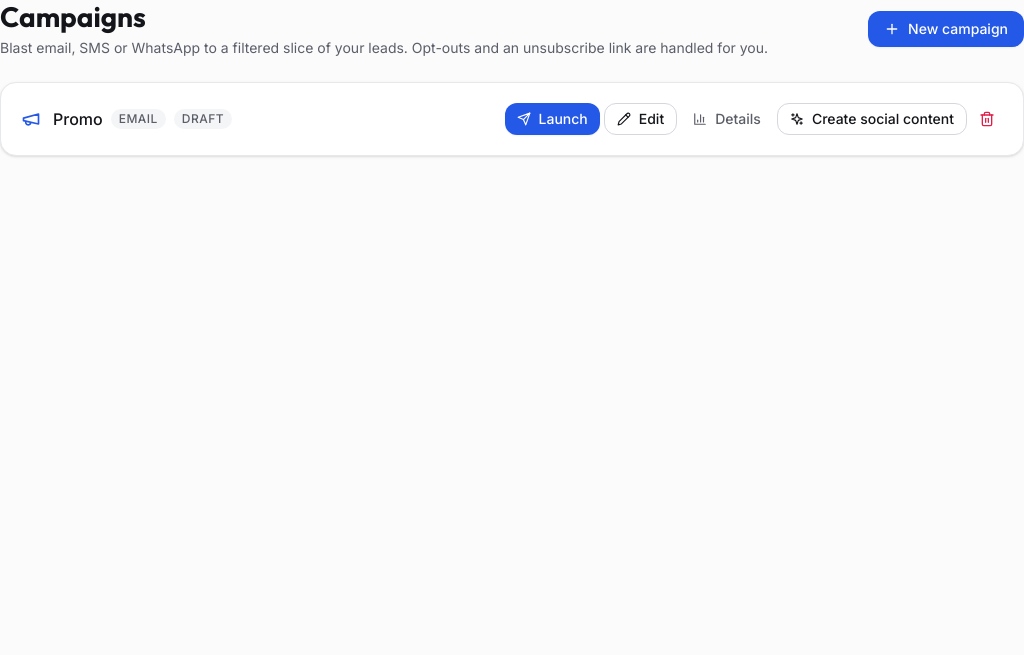
Test: CampaignsPage — channel picker SMS gate › hides the SMS option when the workspace lacks the sms feature
Click the button "New campaign" at (946, 29), box [868,11,1023,47]
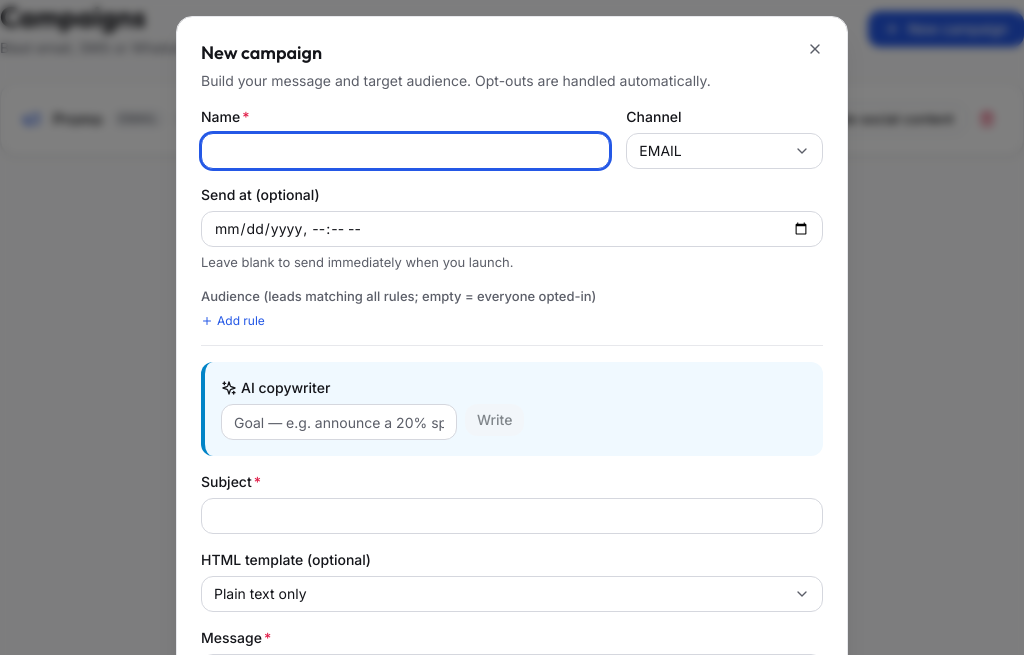
Click the dropdown named "Channel" at (725, 151), box [626,133,823,169]
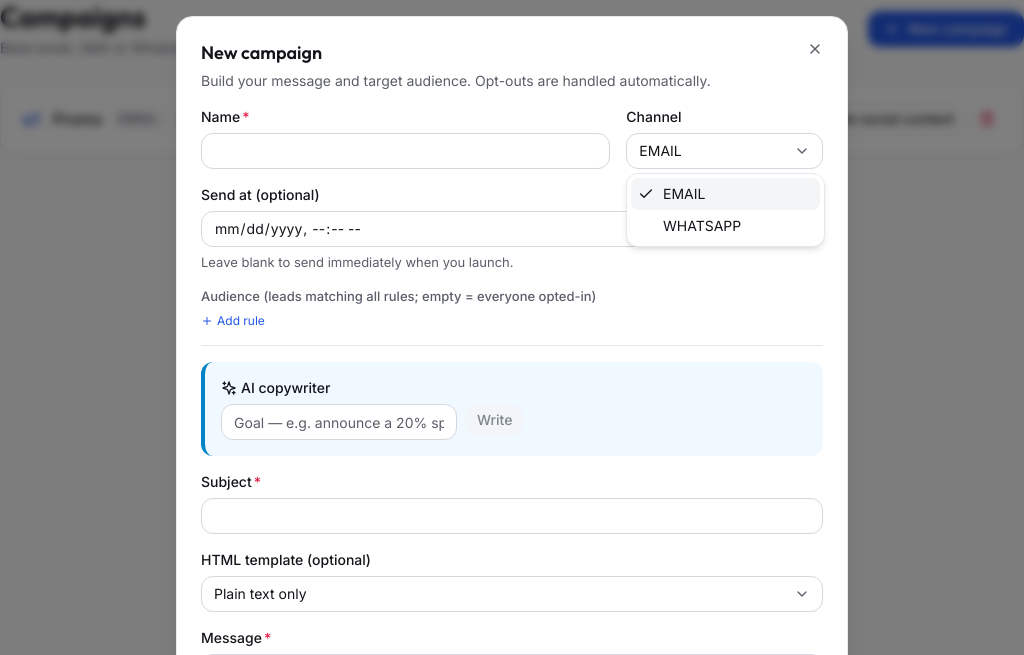
Now the list is shown, box [626,173,825,247]
Now the option "EMAIL" is shown, box [631,178,820,210]
Now the option "WHATSAPP" is shown, box [663,217,741,234]
